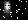person: (5, 2, 12, 14)
